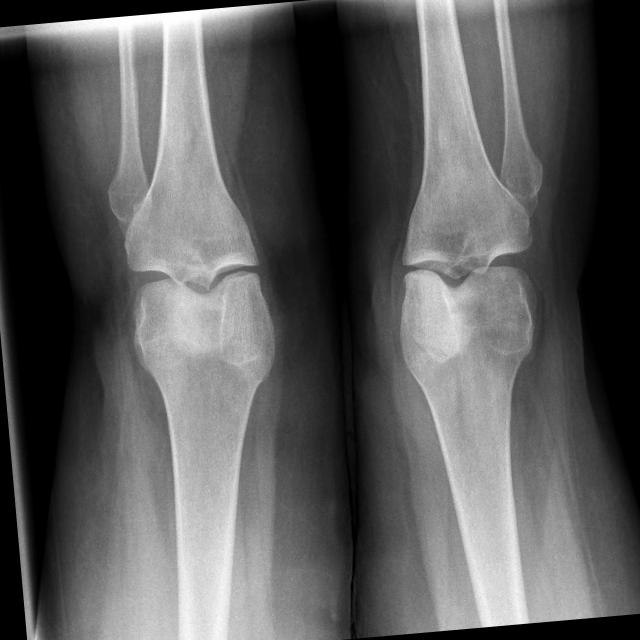Knee: (117, 187, 280, 366), (387, 186, 548, 364)
